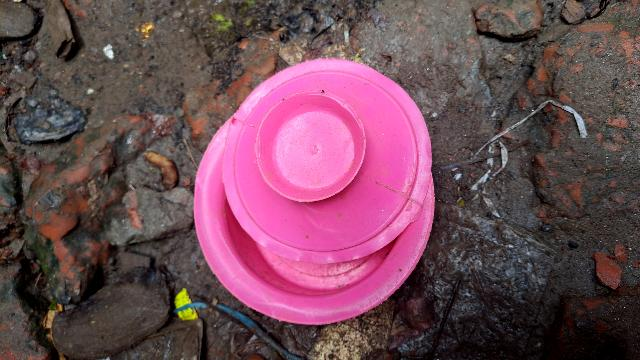hardplastic: (203, 52, 436, 320)
